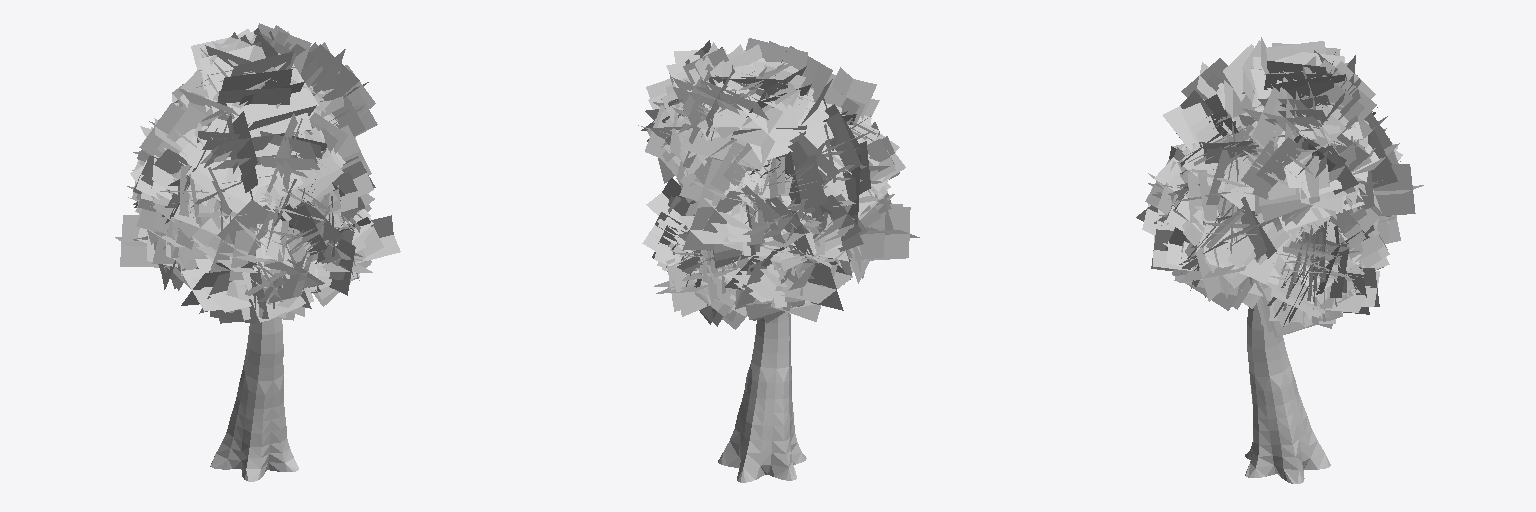
File: CommonTree_1.obj
3 views of the same model, side by side, from view 1: azimuth 30°, elevation 25°; view 2: azimuth 150°, elevation 25°; view 3: azimuth 270°, elevation 25° (orthographic).
Parts seen in each view (by area): view 1: CommonTree_1; view 2: CommonTree_1; view 3: CommonTree_1.
Part boxes in pixels (left/top/right/bottom): CommonTree_1: left=115, top=23, right=400, bottom=481; CommonTree_1: left=638, top=38, right=919, bottom=482; CommonTree_1: left=1136, top=37, right=1423, bottom=483.
Bounding box in the file's own units: 4.31 × 7.26 × 4.58.